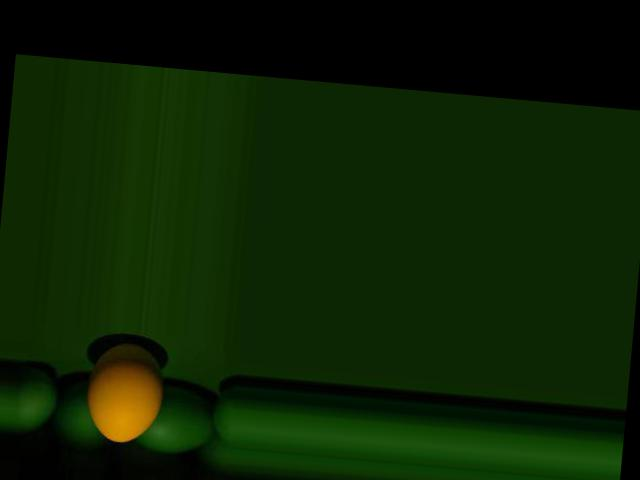egg: (84, 339, 167, 445)
